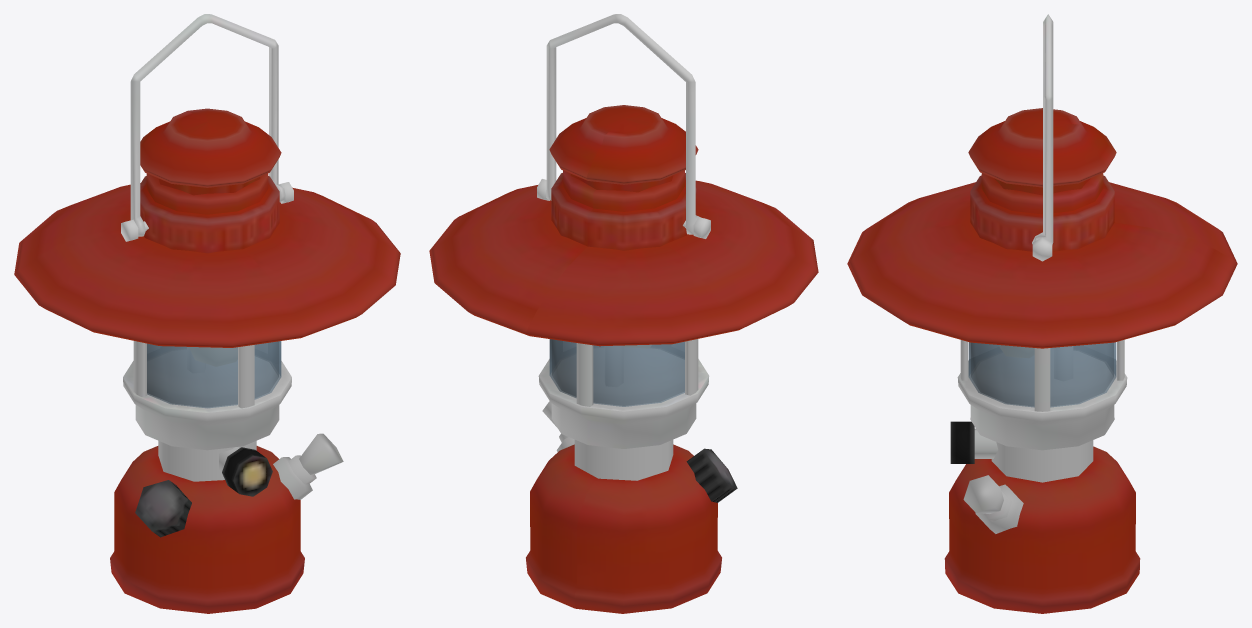
The picture shows the model from 3 angles, left to right: view 1: azimuth 30°, elevation 25°; view 2: azimuth 150°, elevation 25°; view 3: azimuth 270°, elevation 25°; orthographic projection.
Size of the model in its own units: 6.12 by 9.65 by 6.12.
3 materials, 2 textured.
